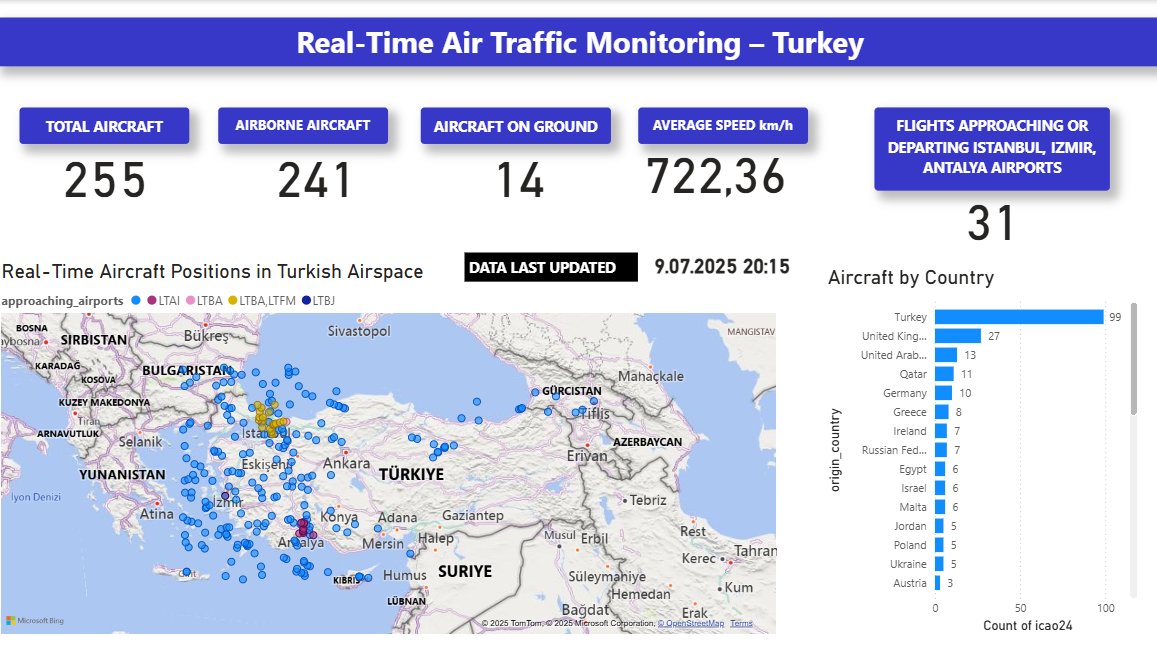

What the dashboard file says about the page in this screenshot:
{"tool":"powerbi","page":{"name":"Page 2","canvas":[1280,720],"ordinal":0},"visuals":[{"type":"card","fields":{"Values":["CountNonNull(public ucus_verisi.on_ground)"]},"box":[267.5,154.7,165.3,70],"z":0},{"type":"card","fields":{"Values":["CountNonNull(public ucus_verisi.on_ground)"]},"box":[490.2,154.7,165.3,70],"z":1000},{"type":"card","fields":{"Values":["Avg(public ucus_verisi.velocity_kmh)"]},"box":[674,147.8,229.5,76.8],"z":2000},{"type":"textbox","box":[243.2,117.7,186.7,39.9],"z":3000},{"type":"textbox","box":[464.9,117.7,209.1,39.9],"z":4000},{"type":"textbox","box":[704.2,117.7,186.7,39.9],"z":5000},{"type":"card","fields":{"Values":["Count(public ucus_verisi.icao24)"]},"box":[35,154.7,166.3,70],"z":6000},{"type":"textbox","box":[25.3,117.7,186.7,39.9],"z":7000},{"type":"map","title":"Real-Time Aircraft Positions in Turkish Airspace","fields":{"Y":["public ucus_verisi.latitude"],"X":["public ucus_verisi.longitude"],"Series":["public ucus_verisi.approaching_airports"]},"box":[0,285,859.8,415.3],"z":8000},{"type":"clusteredBarChart","title":"Aircraft by Country","fields":{"Category":["public ucus_verisi.origin_country"],"Y":["CountNonNull(public ucus_verisi.icao24)"]},"box":[906.5,292.8,350.2,407.5],"z":9000},{"type":"card","fields":{"Values":["Min(public ucus_verisi.retrieved_at_tr)"]},"box":[704.2,276.2,184.8,33.1],"z":10000},{"type":"textbox","box":[0,19.5,1280,53.5],"z":11000},{"type":"textbox","box":[513.6,277.2,190.6,32.1],"z":12000},{"type":"card","fields":{"Values":["CountNonNull(public ucus_verisi.approaching_airports)"]},"box":[1041.7,199.4,103.1,76.8],"z":13000},{"type":"textbox","box":[963.9,117.7,258.7,91.4],"z":14000}]}

Visuals, with their boxes in screenshot pixels (x1, y1, x2, y2), scaled from the page's 1280x720 canvas onto the 1157x650 screenshot:
card - CountNonNull(public ucus_verisi.on_ground): (242, 140, 391, 203)
card - CountNonNull(public ucus_verisi.on_ground): (443, 140, 593, 203)
card - Avg(public ucus_verisi.velocity_kmh): (609, 133, 817, 203)
textbox: (220, 106, 389, 142)
textbox: (420, 106, 609, 142)
textbox: (637, 106, 805, 142)
card - Count(public ucus_verisi.icao24): (32, 140, 182, 203)
textbox: (23, 106, 192, 142)
"Real-Time Aircraft Positions in Turkish Airspace" map: (0, 257, 777, 632)
"Aircraft by Country" clusteredBarChart: (819, 264, 1136, 632)
card - Min(public ucus_verisi.retrieved_at_tr): (637, 249, 804, 279)
textbox: (0, 18, 1156, 66)
textbox: (464, 250, 637, 279)
card - CountNonNull(public ucus_verisi.approaching_airports): (942, 180, 1035, 249)
textbox: (871, 106, 1105, 189)
